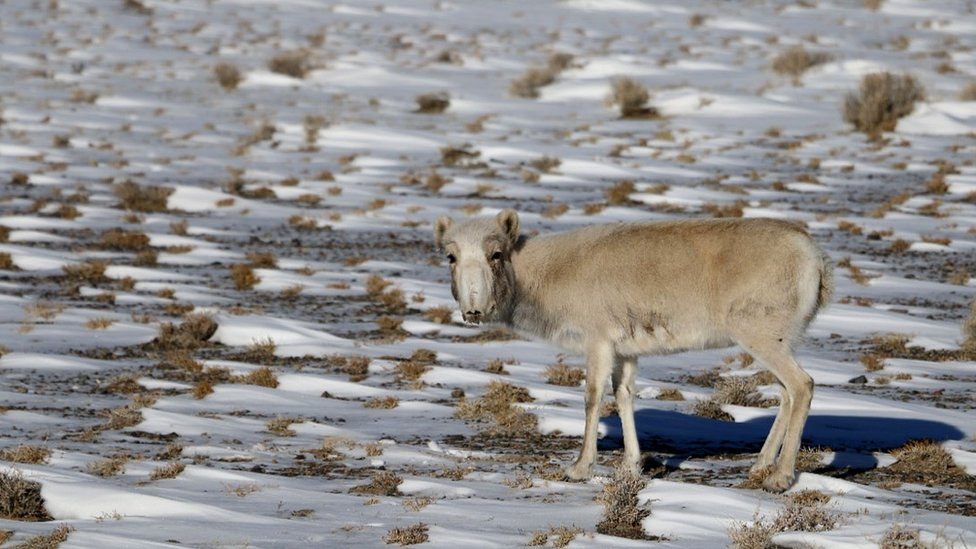saiga: (430, 213, 829, 498)
